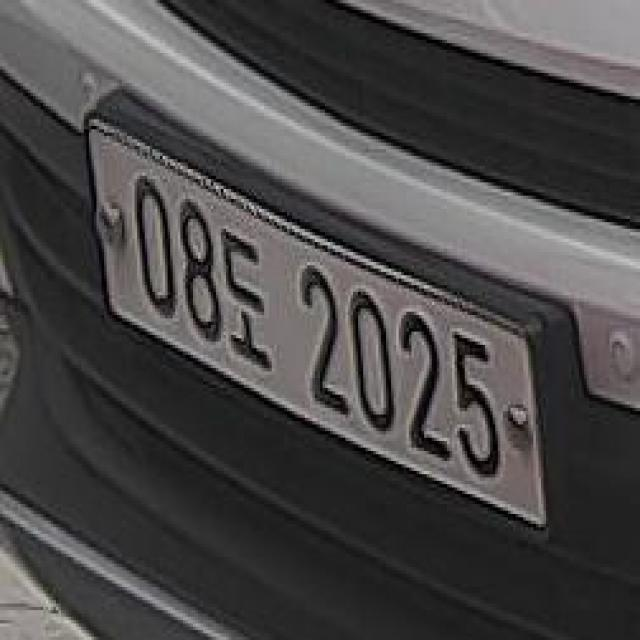illegal_plate: (89, 123, 554, 542)
